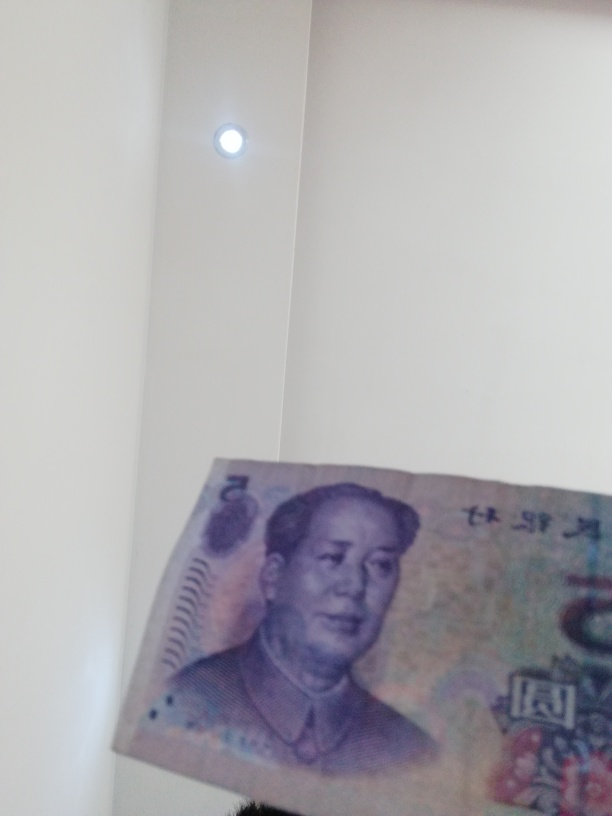rmb: (109, 454, 607, 816)
